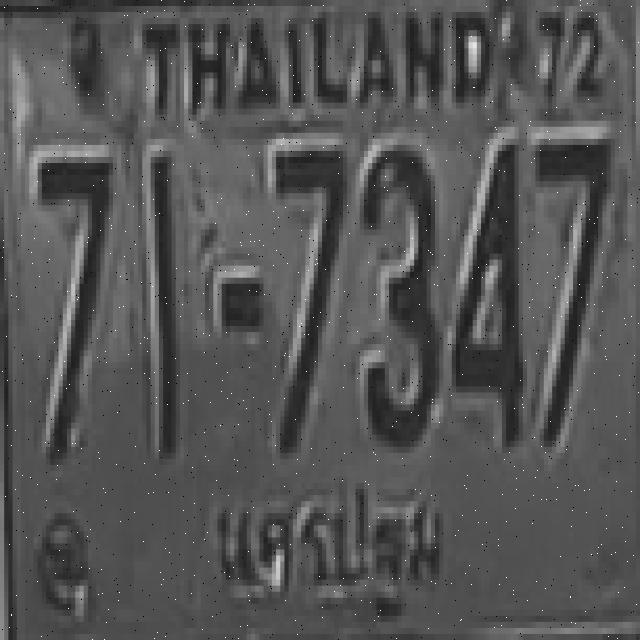3: (358, 142, 438, 444)
4: (452, 139, 523, 441)
7: (35, 151, 111, 459), (533, 133, 609, 435), (274, 145, 345, 453), (533, 133, 609, 326)
NakhonPathom: (198, 468, 456, 630)
